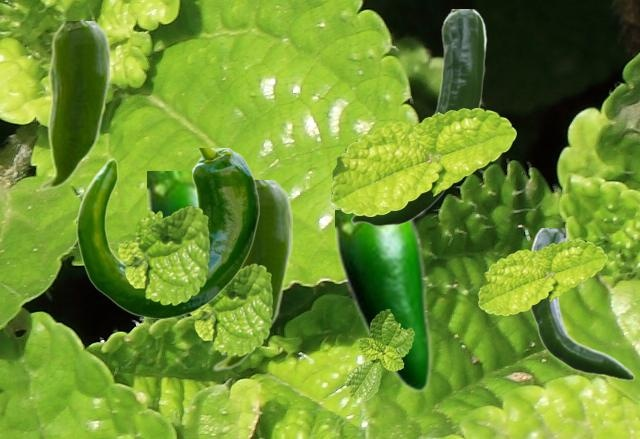green_chili: (76, 148, 259, 317), (350, 9, 486, 226), (147, 171, 243, 357), (335, 210, 431, 392), (529, 228, 634, 379), (211, 180, 291, 371), (38, 21, 109, 190)
